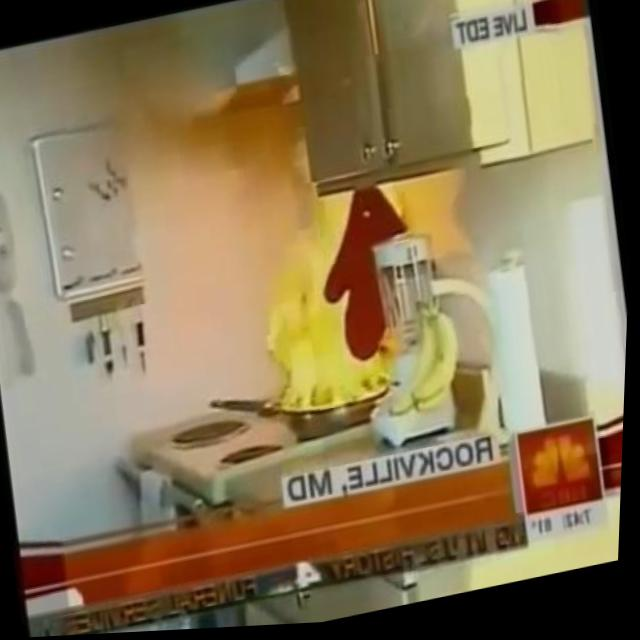fire: (246, 187, 423, 425)
